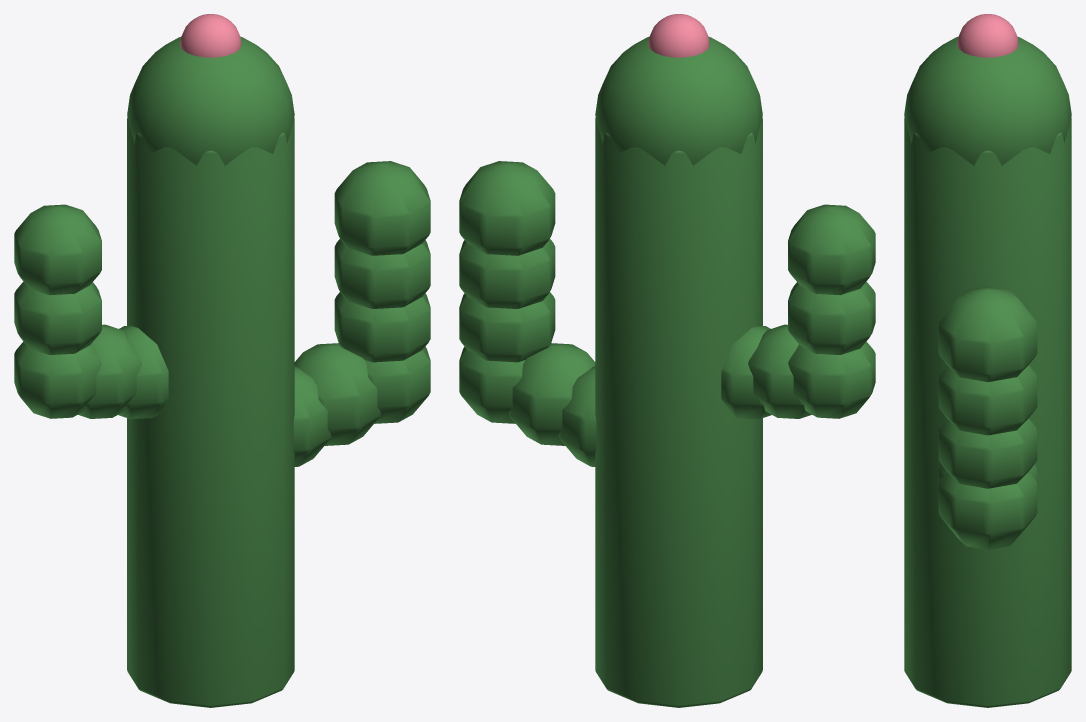
Rendered from veg_cacto.glb.
3 views of the same model, side by side, from view 1: azimuth 30°, elevation 25°; view 2: azimuth 150°, elevation 25°; view 3: azimuth 270°, elevation 25° (orthographic).
Visible parts, largest first — view 1: veg_cacto; view 2: veg_cacto; view 3: veg_cacto.
Boxes of the visible parts, x1,y1,x2,y2 form: veg_cacto: [14, 14, 430, 707]; veg_cacto: [459, 14, 875, 707]; veg_cacto: [904, 14, 1071, 707].
Size of the model in its own units: 2.13 by 3.29 by 0.76.
